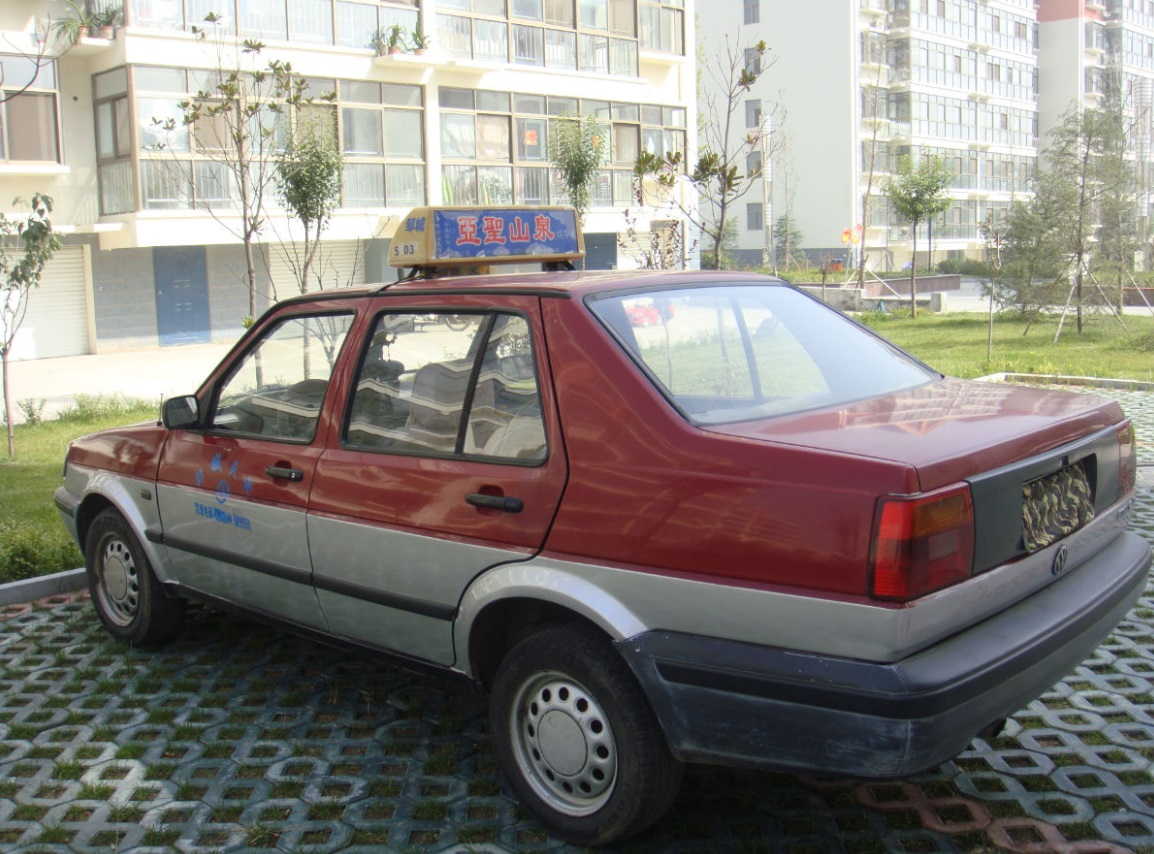taxi: (57, 205, 1153, 850)
